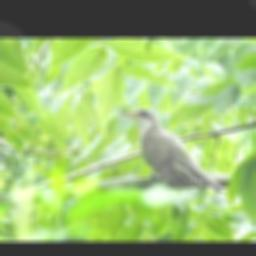Cuckoo: (120, 109, 224, 192)
